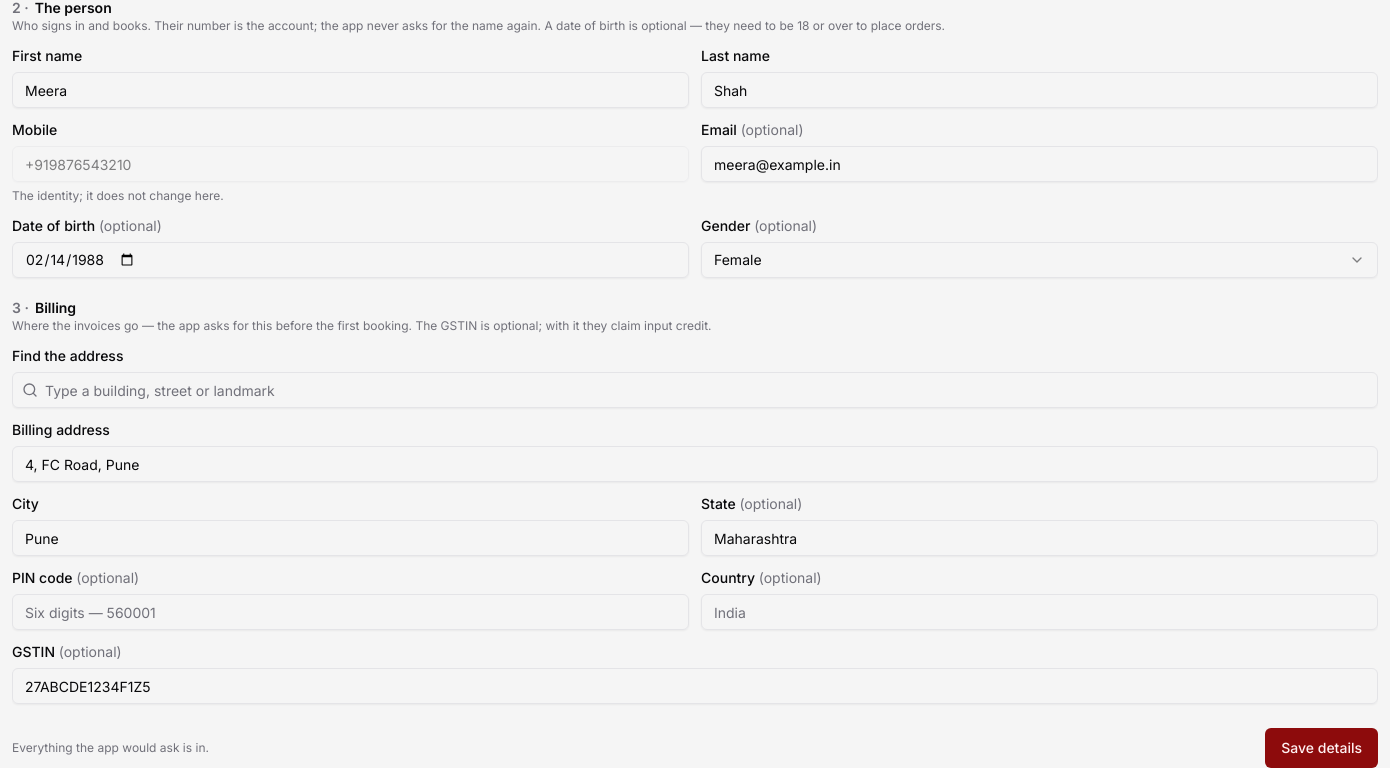
AdvertiserOnboardingForm › shows a server refusal on the field it names
(page scrolled)
Click the button with test id "af-submit".
click(1322, 748)  # box [1265,728,1378,767]
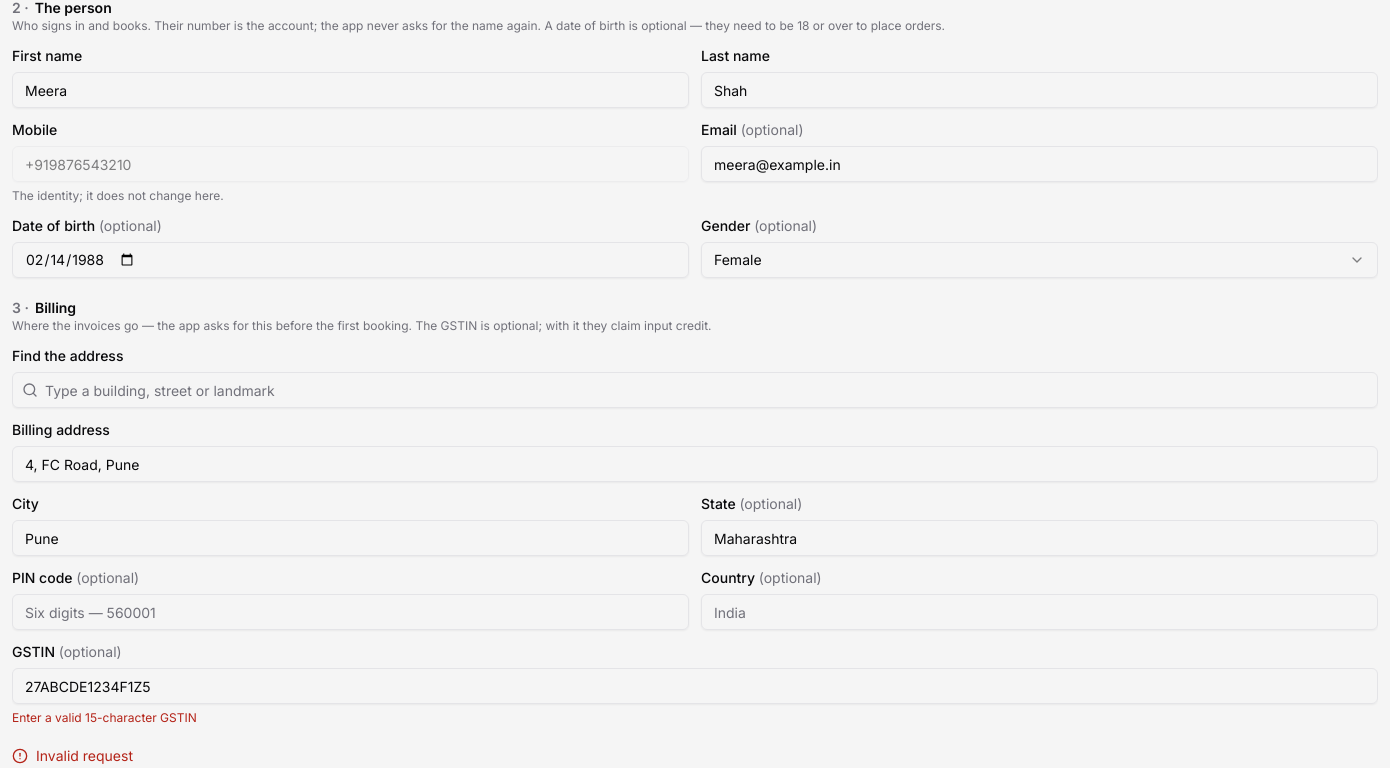
Expected: the message "Enter a valid 15-character GSTIN" is shown, [12,710,197,725]
Expected: the text "Invalid request" is shown, [12,747,133,764]
